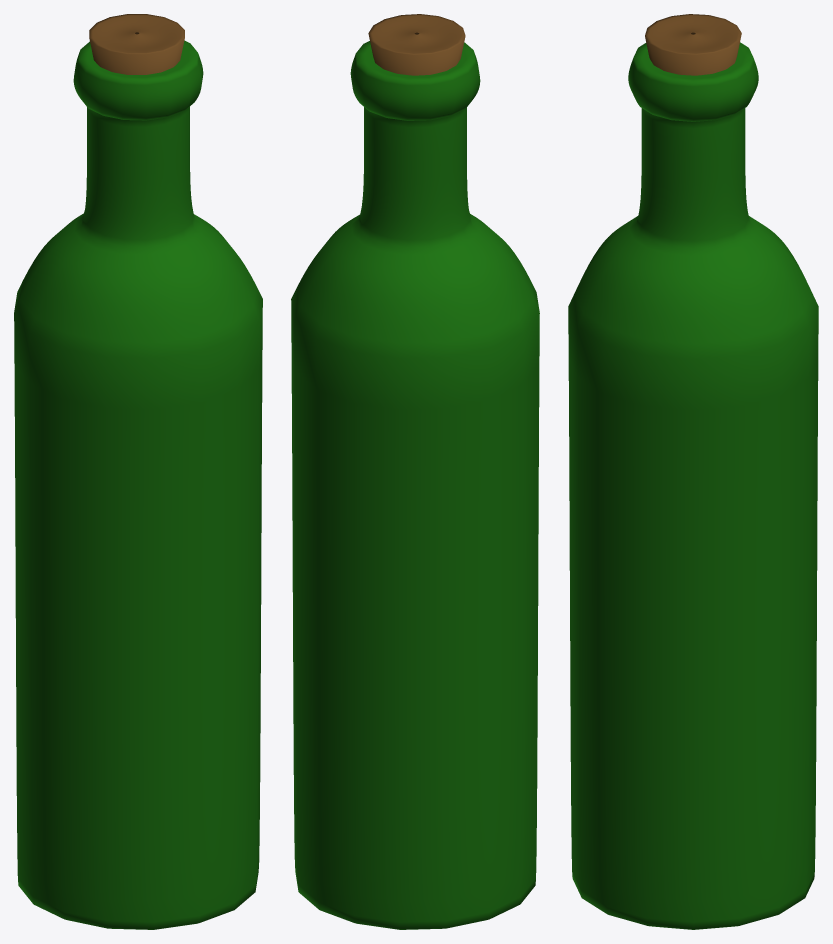
Rendered from hello.fbx.
The picture shows the model from 3 angles, left to right: view 1: azimuth 30°, elevation 25°; view 2: azimuth 150°, elevation 25°; view 3: azimuth 270°, elevation 25°; orthographic projection.
Visible parts, largest first — view 1: Objet, bouchon; view 2: Objet, bouchon; view 3: Objet, bouchon.
Part boxes in pixels (left/top/right/bottom): Objet: left=14, top=40, right=262, bottom=929; bouchon: left=89, top=14, right=184, bottom=74; Objet: left=291, top=41, right=539, bottom=929; bouchon: left=368, top=14, right=465, bottom=75; Objet: left=568, top=42, right=818, bottom=929; bouchon: left=645, top=14, right=741, bottom=75.
Size of the model in its own units: 1735 by 6483 by 1735.
